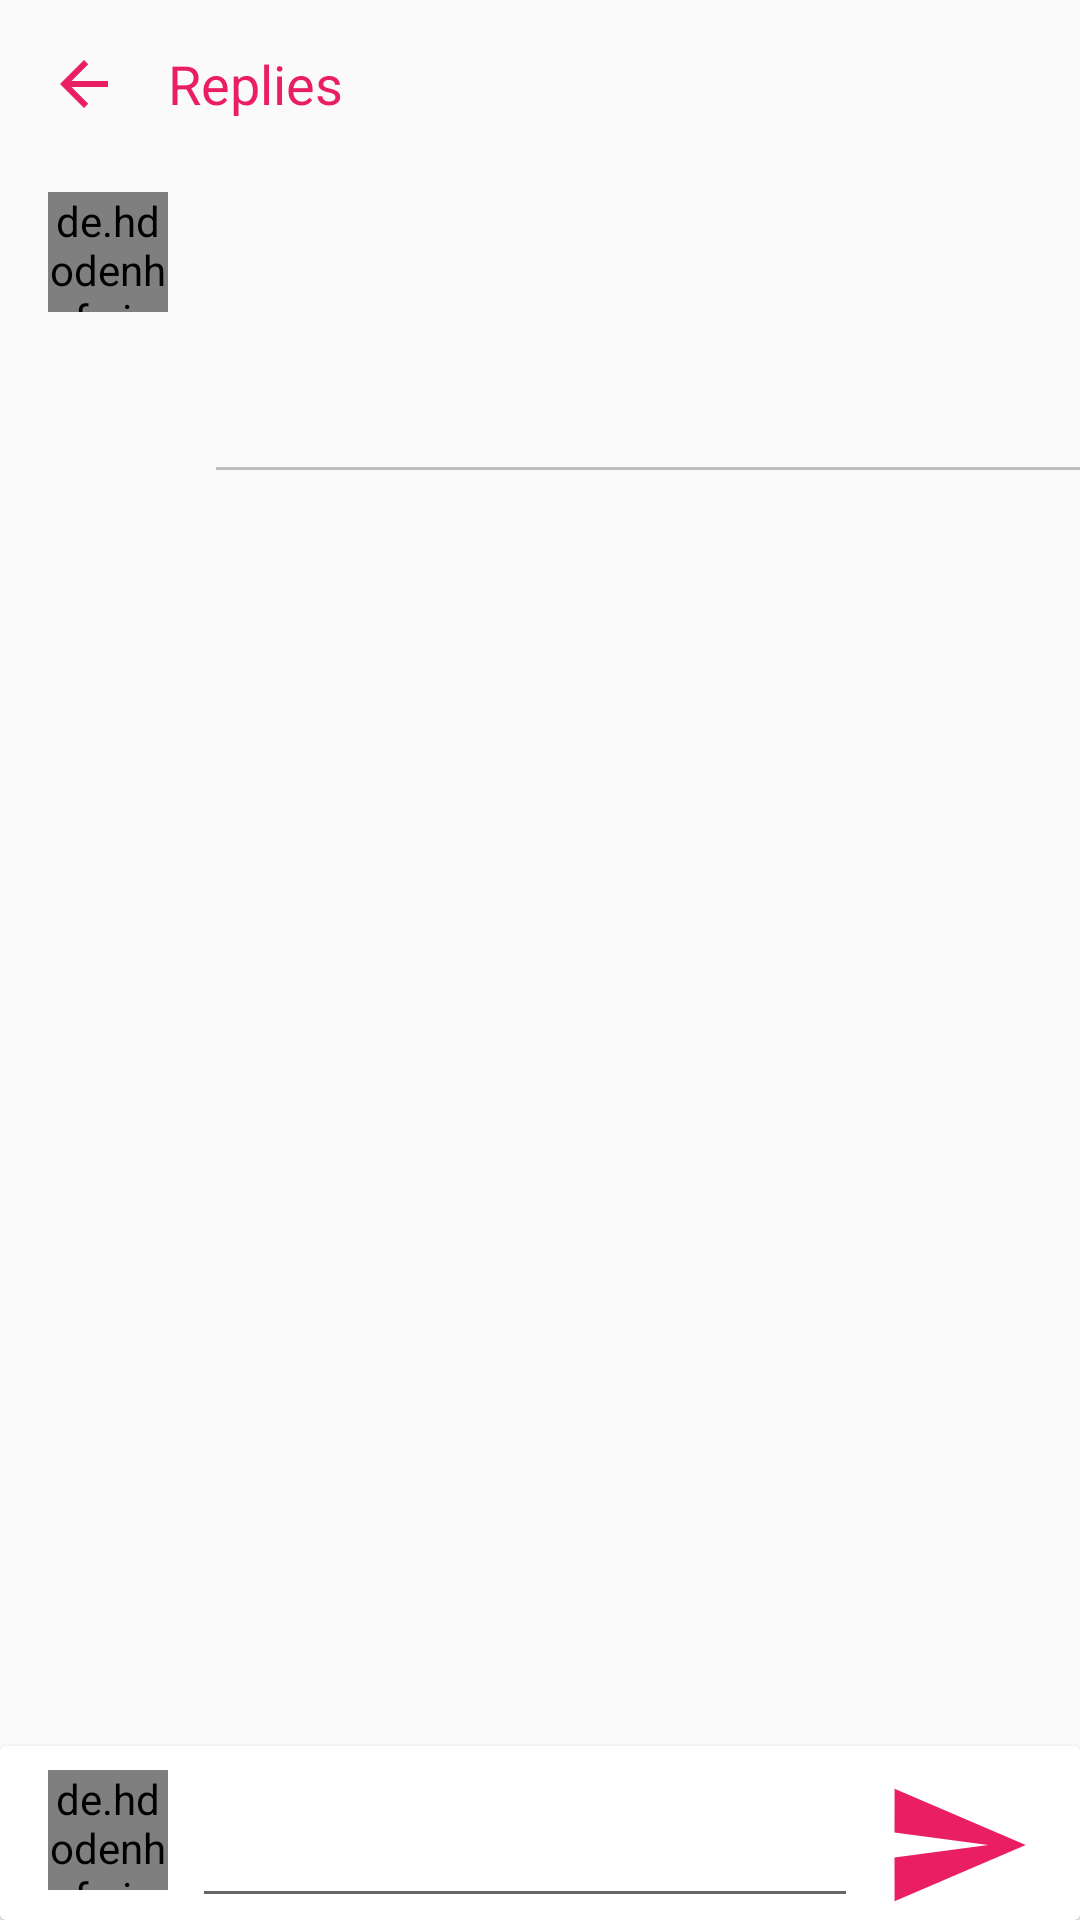

Icons on this 1080w x 1920h Android screen, each with the point to tap as (x=x, y=y):
arrow back: (x=84, y=84)
send: (x=960, y=1845)
